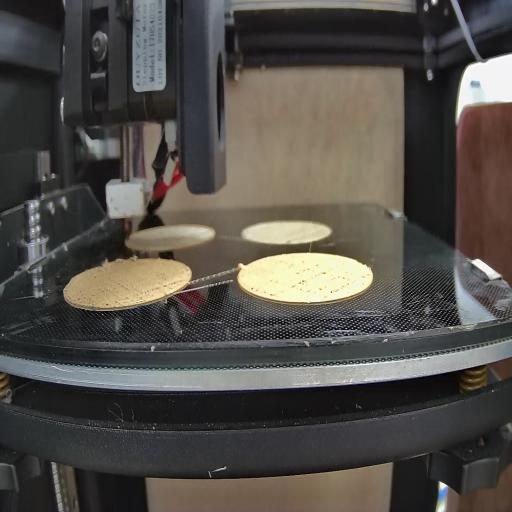under_extrusion: (68, 276, 134, 308), (292, 265, 354, 296), (148, 278, 181, 292), (248, 284, 277, 299)
